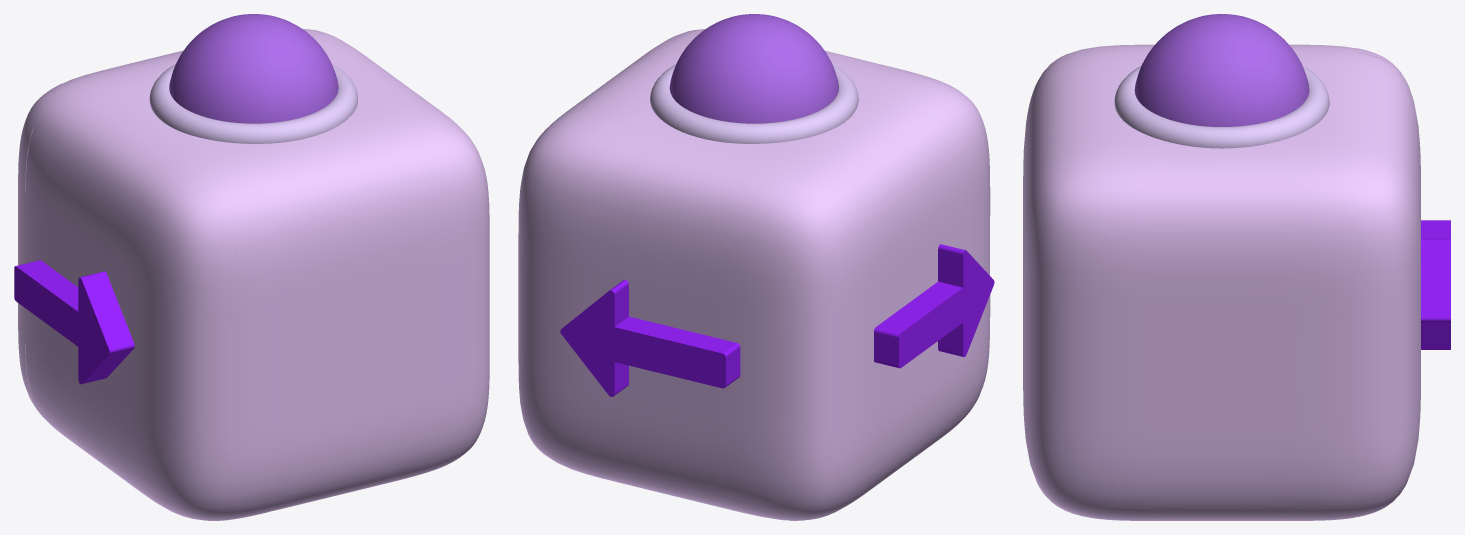
Rendered from cube controller.fbx.
3 renders of one model, left to right at view 1: azimuth 30°, elevation 25°; view 2: azimuth 150°, elevation 25°; view 3: azimuth 270°, elevation 25°, orthographic. The views are drawn at different scales.
Parts seen in each view (by area): view 1: Layer 09, Layer 07, Layer 06, Layer 05; view 2: Layer 09, Layer 06, Layer 07, Layer 05; view 3: Layer 09, Layer 07, Layer 05, Layer 06.
Part boxes in pixels (x1=…): Layer 09: x1=18, y1=28, x2=489, y2=520; Layer 07: x1=169, y1=14, x2=338, y2=123; Layer 06: x1=14, y1=260, x2=134, y2=384; Layer 05: x1=149, y1=64, x2=357, y2=143; Layer 09: x1=518, y1=29, x2=990, y2=520; Layer 06: x1=560, y1=244, x2=994, y2=396; Layer 07: x1=669, y1=14, x2=838, y2=123; Layer 05: x1=650, y1=64, x2=858, y2=143; Layer 09: x1=1023, y1=44, x2=1420, y2=520; Layer 07: x1=1134, y1=14, x2=1309, y2=126; Layer 05: x1=1114, y1=66, x2=1329, y2=148; Layer 06: x1=1421, y1=220, x2=1450, y2=349.
Bounding box in the file's own units: 215 × 215 × 245.
